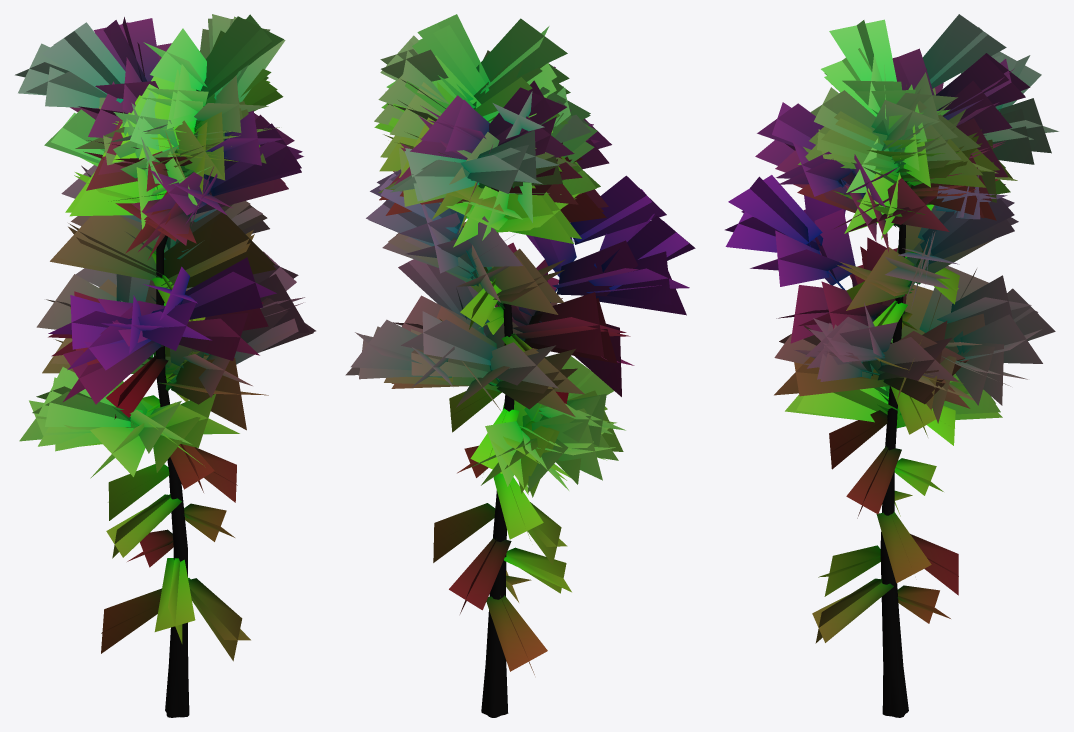
The model's file is M_Realistic21_8.fbx.
3 views of the same model, side by side, from view 1: azimuth 30°, elevation 25°; view 2: azimuth 150°, elevation 25°; view 3: azimuth 270°, elevation 25° (orthographic). The views are drawn at different scales.
Parts seen in each view (by area): view 1: Tree_8; view 2: Tree_8; view 3: Tree_8.
Part boxes in pixels (x1,y1,x2,y2): Tree_8: [15, 14, 315, 717]; Tree_8: [345, 14, 695, 717]; Tree_8: [725, 14, 1058, 717].
Size of the model in its own units: 996 by 2469 by 1091.
